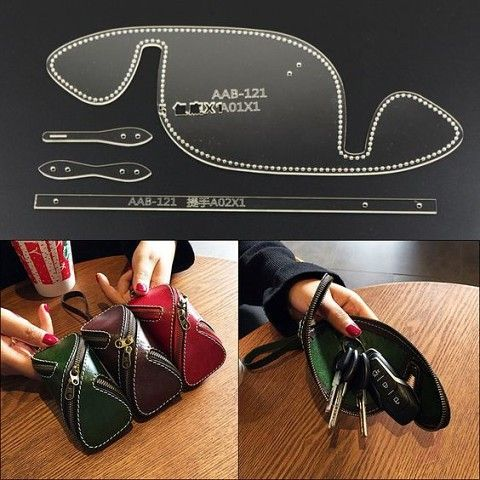cuero: (30, 271, 226, 454)
